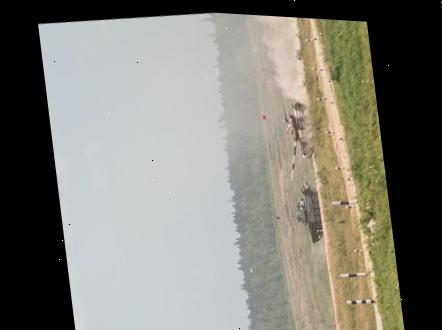tank: (279, 98, 318, 182), (292, 178, 324, 246)
